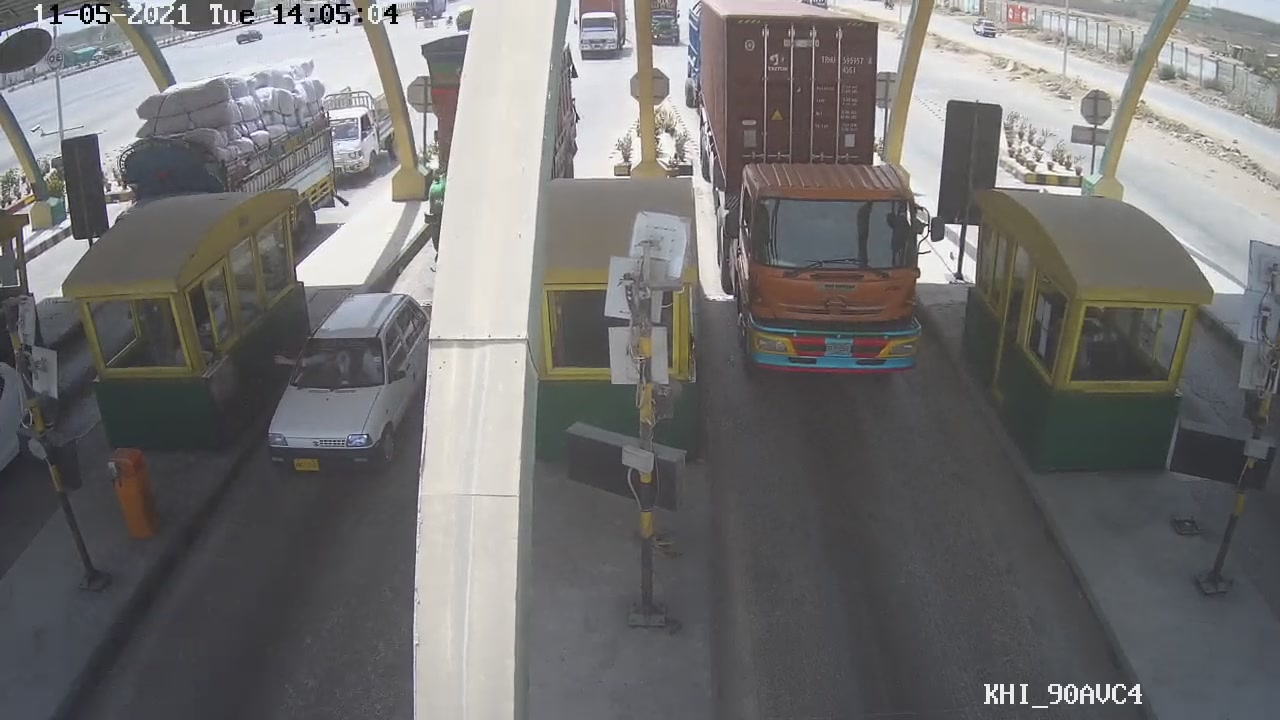F6: (698, 2, 946, 383)
